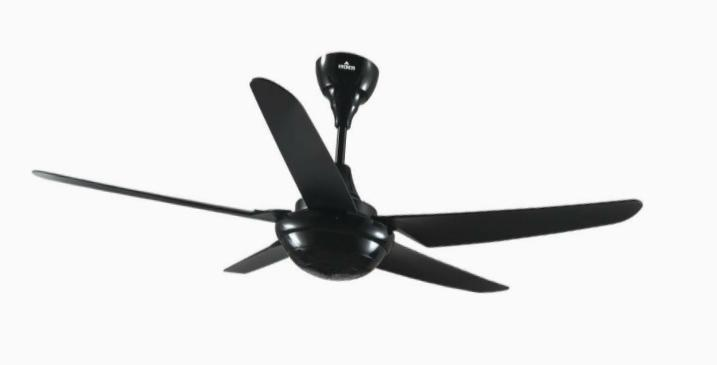fan: (11, 28, 680, 316)
